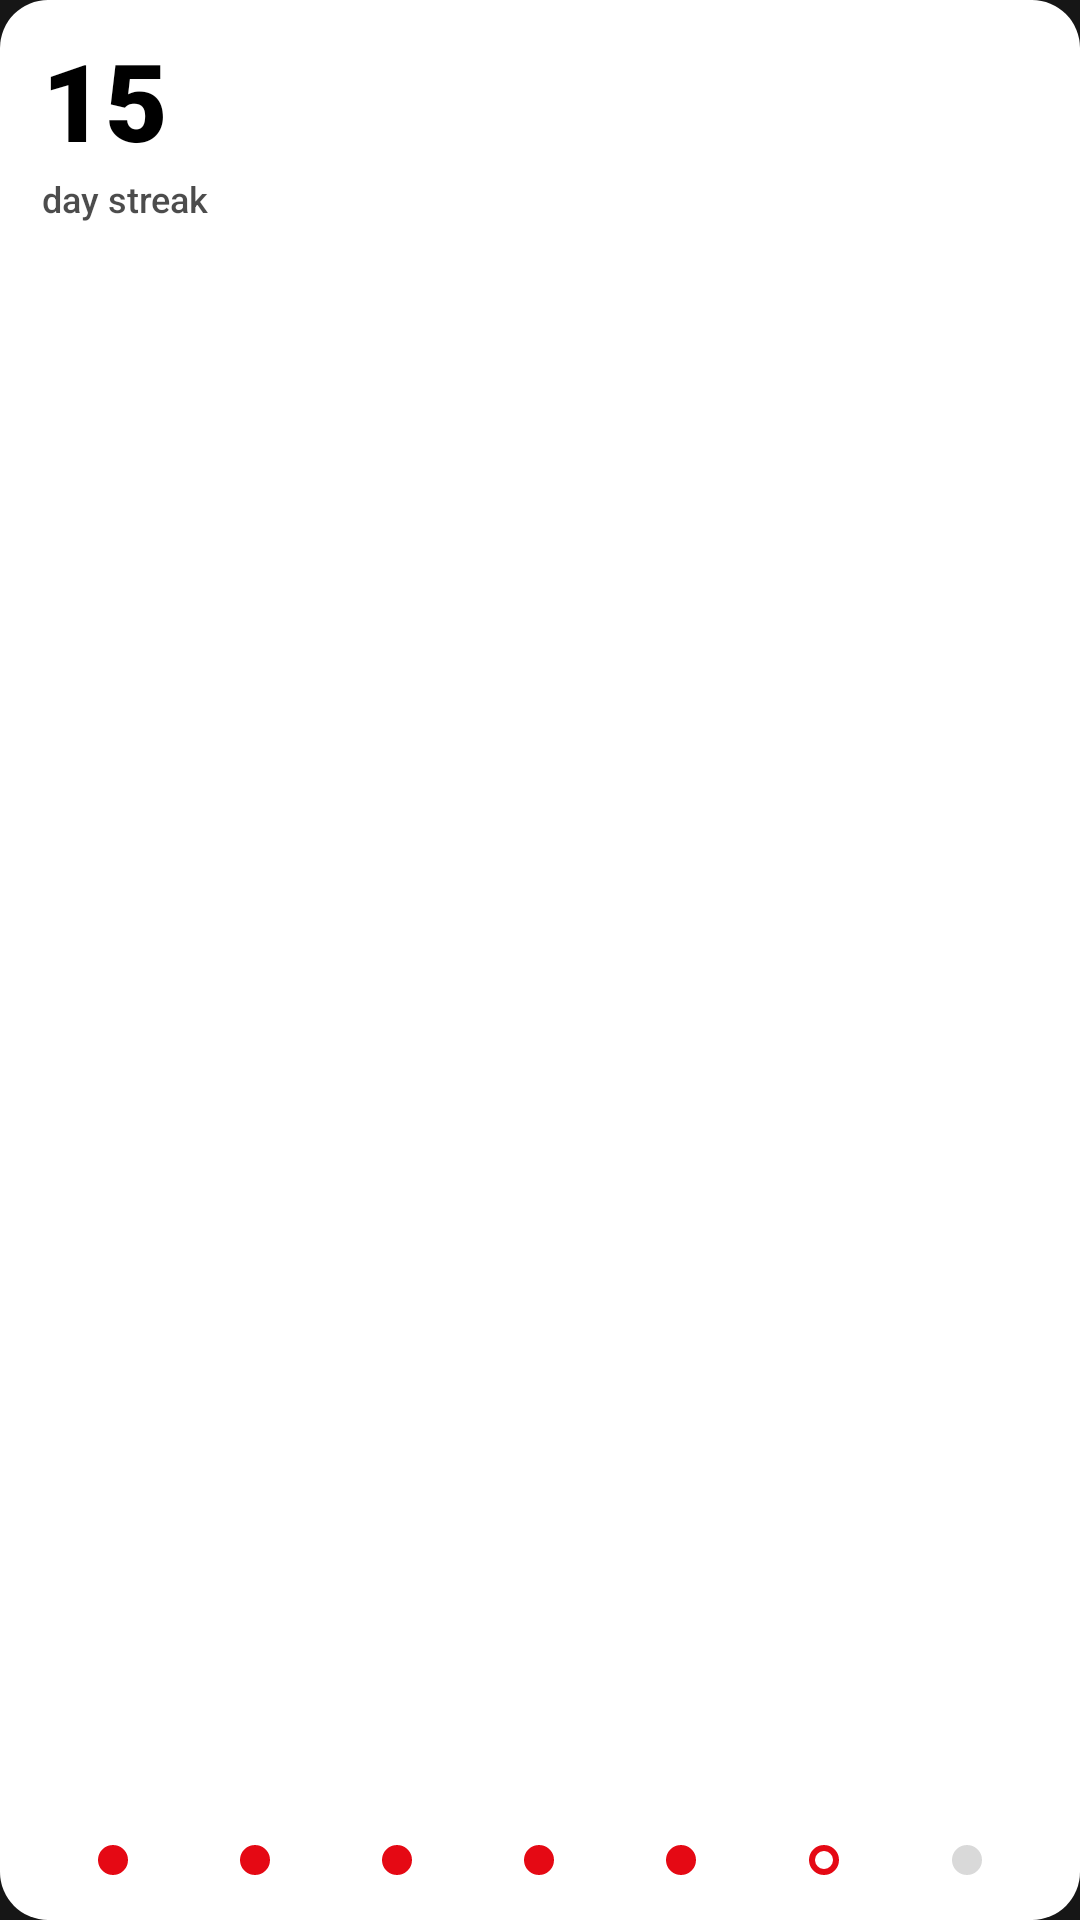

Named icons in this screenshot (1080 × 1920) and their centers, (x,y):
widget dot done: (113,1860), (255,1860), (397,1860), (539,1860), (681,1860)
widget dot today: (824,1860)
